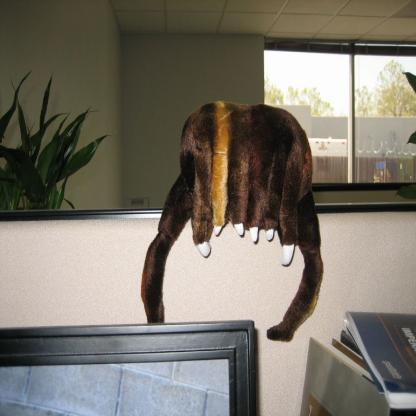book: (301, 310, 416, 416)
